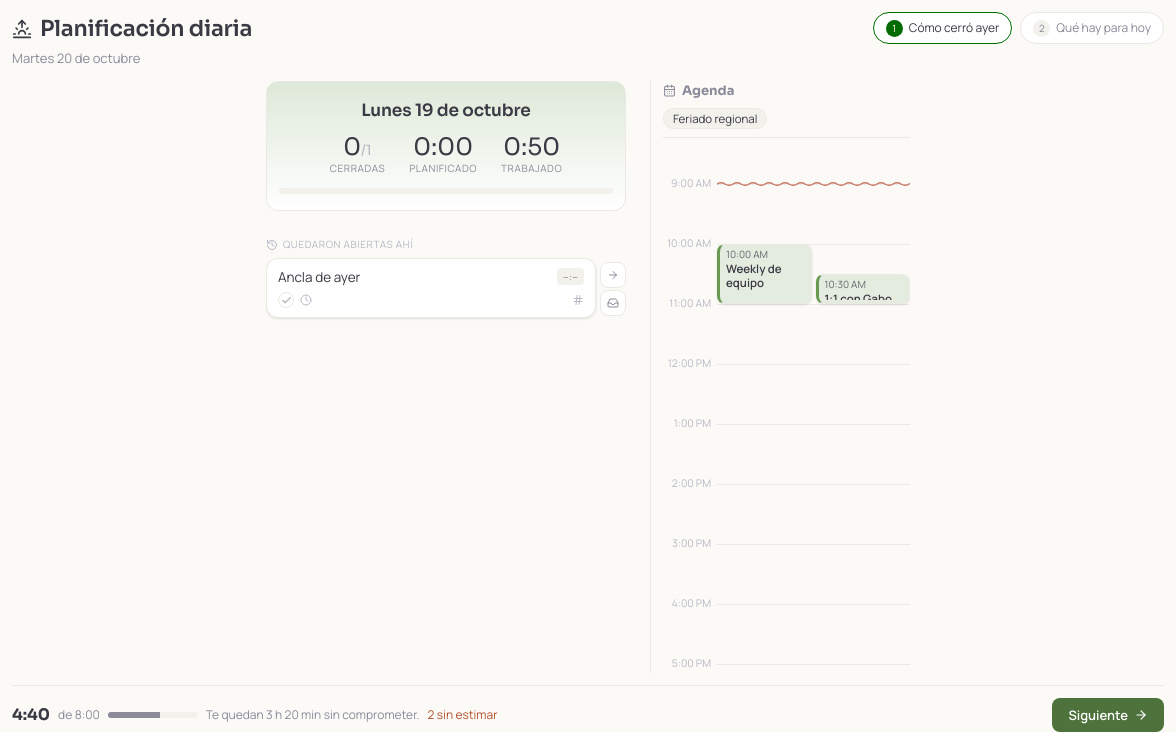
DailyPlanningView › el backlog es una columna del paso 2, para arrastrar en los dos sentidos
This screenshot has width=1176, height=732.
(page scrolled)
Click the button "2 Qué hay para hoy".
click(1092, 28)  # box [1020,12,1164,44]
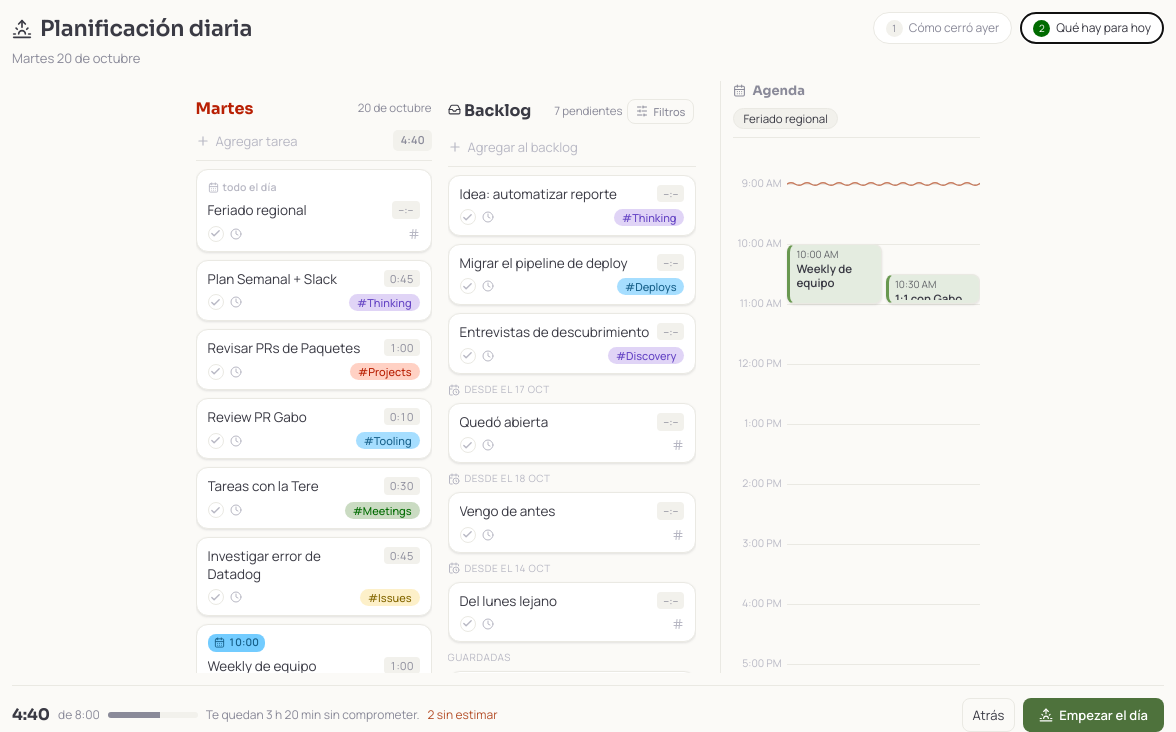
expect the text "Backlog" is shown: met, box [448,101,531,121]
expect the number of elements with class "daily-plan__col" is 2: met, box [196,80,432,673]; [448,80,696,673]
